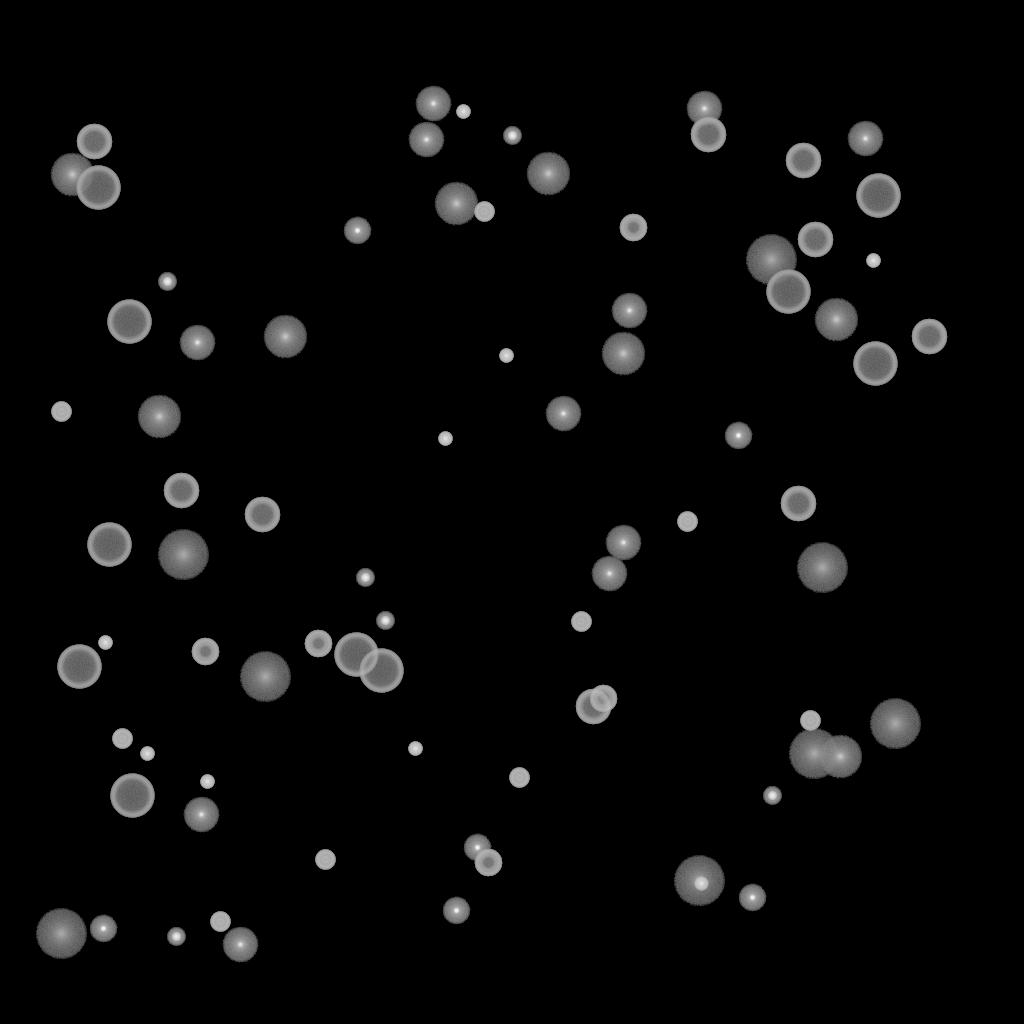depth:-10: (463, 834, 491, 862), (89, 915, 117, 943), (343, 217, 371, 245), (738, 884, 766, 912), (724, 422, 752, 450), (442, 897, 470, 925)
depth:-20: (158, 273, 176, 291), (167, 928, 185, 946), (376, 612, 394, 630), (503, 127, 521, 145), (763, 787, 781, 805), (356, 569, 374, 587)
depth:-30: (456, 105, 470, 119), (98, 636, 112, 650), (438, 432, 452, 446), (499, 349, 513, 363), (408, 742, 422, 756), (140, 747, 154, 761), (200, 775, 214, 789), (866, 254, 880, 268), (694, 877, 708, 891)
depth:-40: (509, 768, 529, 788), (474, 202, 494, 222), (112, 729, 132, 749), (210, 912, 230, 932), (571, 612, 591, 632), (315, 850, 335, 870), (800, 711, 820, 731), (51, 402, 71, 422), (677, 512, 697, 532)
depth:-50: (304, 630, 332, 658), (589, 685, 617, 713), (191, 638, 219, 666), (474, 849, 502, 877), (619, 214, 647, 242)
depth:-60: (575, 689, 611, 725), (244, 497, 280, 533), (911, 319, 947, 355), (797, 222, 833, 258), (780, 486, 816, 522), (76, 124, 112, 160), (785, 143, 821, 179), (163, 473, 199, 509), (690, 117, 726, 153)
depth:-70: (766, 270, 810, 314), (76, 166, 120, 210), (359, 649, 403, 693), (110, 774, 154, 818), (87, 523, 131, 567), (107, 300, 151, 344), (853, 342, 897, 386), (856, 174, 900, 218), (334, 633, 378, 677), (57, 645, 101, 689)
depth:0: (179, 325, 215, 361), (686, 91, 722, 127), (183, 797, 219, 833), (611, 293, 647, 329), (222, 927, 258, 963), (408, 122, 444, 158), (415, 86, 451, 122), (847, 121, 883, 157), (591, 556, 627, 592), (605, 525, 641, 561), (545, 396, 581, 432)
depth:10: (263, 315, 307, 359), (818, 735, 862, 779), (50, 153, 94, 197), (526, 152, 570, 196), (814, 298, 858, 342), (434, 182, 478, 226), (137, 395, 181, 439), (601, 332, 645, 376)
depth:20: (35, 909, 87, 959), (239, 652, 291, 702), (745, 235, 797, 285), (796, 543, 848, 593), (157, 530, 209, 580), (869, 699, 921, 749), (673, 856, 725, 906), (788, 729, 840, 779)
